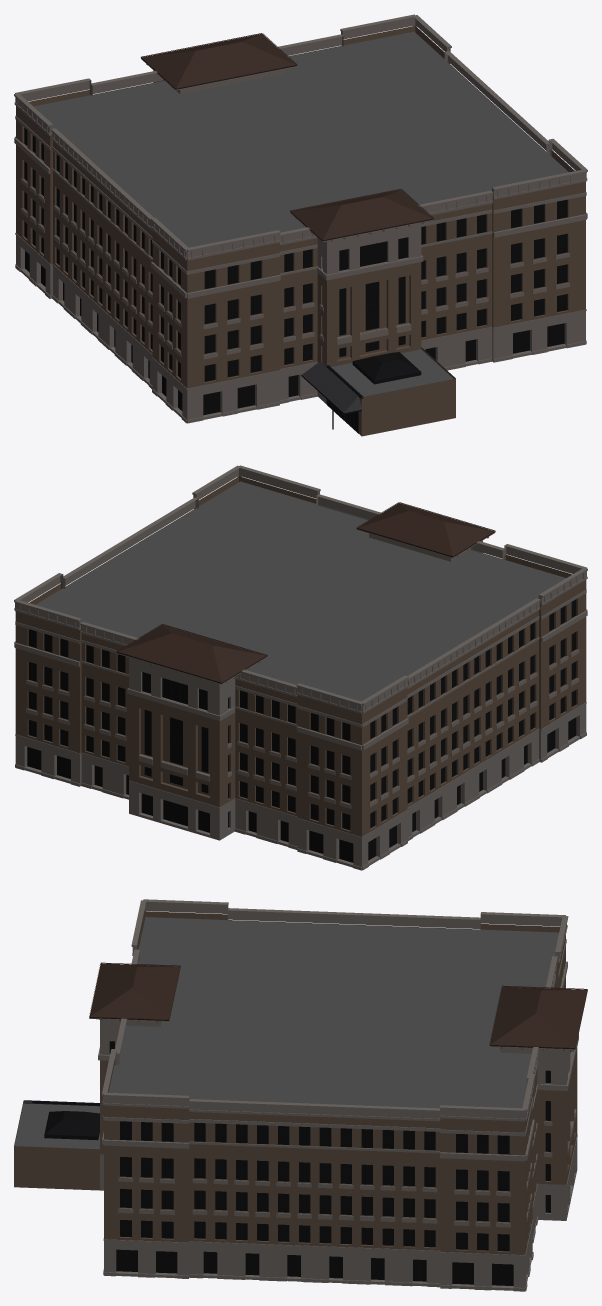
File: odonnell-building-look.glb
The picture shows the model from 3 angles, top to bottom: view 1: azimuth 30°, elevation 25°; view 2: azimuth 150°, elevation 25°; view 3: azimuth 270°, elevation 25°; orthographic projection. The views are drawn at different scales.
Visible parts, largest first — view 1: n_roof_flat, n_wall_brick, n_wall_stone, n_glass_window, n_roof_tile, n_metal_frame_dark, n_glass_storefront, n_wall_brick_soldier, n_roof_canopy_metal, n_glass_skylight; view 2: n_roof_flat, n_wall_brick, n_wall_stone, n_glass_window, n_roof_tile, n_metal_frame_dark, n_glass_storefront, n_wall_brick_soldier; view 3: n_roof_flat, n_wall_brick, n_wall_stone, n_glass_window, n_roof_tile, n_metal_frame_dark, n_glass_storefront, n_wall_brick_soldier, n_glass_skylight.
Boxes of the visible parts, bbox=[...] form: n_roof_flat: bbox=[33, 31, 568, 396]; n_wall_brick: bbox=[16, 26, 585, 436]; n_wall_stone: bbox=[14, 14, 587, 423]; n_glass_window: bbox=[24, 127, 567, 381]; n_roof_tile: bbox=[140, 33, 433, 240]; n_metal_frame_dark: bbox=[24, 58, 567, 433]; n_glass_storefront: bbox=[25, 251, 563, 431]; n_wall_brick_soldier: bbox=[22, 158, 568, 365]; n_roof_canopy_metal: bbox=[302, 361, 361, 412]; n_glass_skylight: bbox=[353, 352, 420, 380]; n_roof_flat: bbox=[35, 481, 565, 701]; n_wall_brick: bbox=[15, 476, 586, 836]; n_wall_stone: bbox=[14, 465, 587, 870]; n_glass_window: bbox=[29, 599, 575, 829]; n_roof_tile: bbox=[116, 502, 495, 682]; n_metal_frame_dark: bbox=[27, 528, 576, 862]; n_glass_storefront: bbox=[27, 717, 575, 862]; n_wall_brick_soldier: bbox=[27, 629, 578, 814]; n_roof_flat: bbox=[14, 917, 558, 1149]; n_wall_brick: bbox=[14, 911, 577, 1254]; n_wall_stone: bbox=[98, 899, 578, 1291]; n_glass_window: bbox=[110, 1041, 570, 1250]; n_roof_tile: bbox=[89, 962, 587, 1048]; n_metal_frame_dark: bbox=[23, 966, 587, 1285]; n_glass_storefront: bbox=[116, 1249, 513, 1285]; n_wall_brick_soldier: bbox=[119, 984, 564, 1234]; n_glass_skylight: bbox=[44, 1111, 99, 1136].
Bounding box in the file's own units: 62.08 × 26.38 × 71.22.
